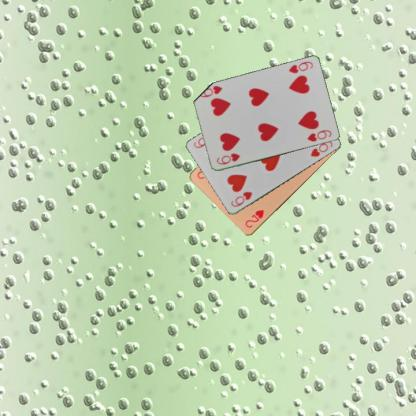2h: (243, 207, 266, 230)
6h: (228, 189, 254, 209), (286, 59, 314, 75), (214, 151, 241, 166)
